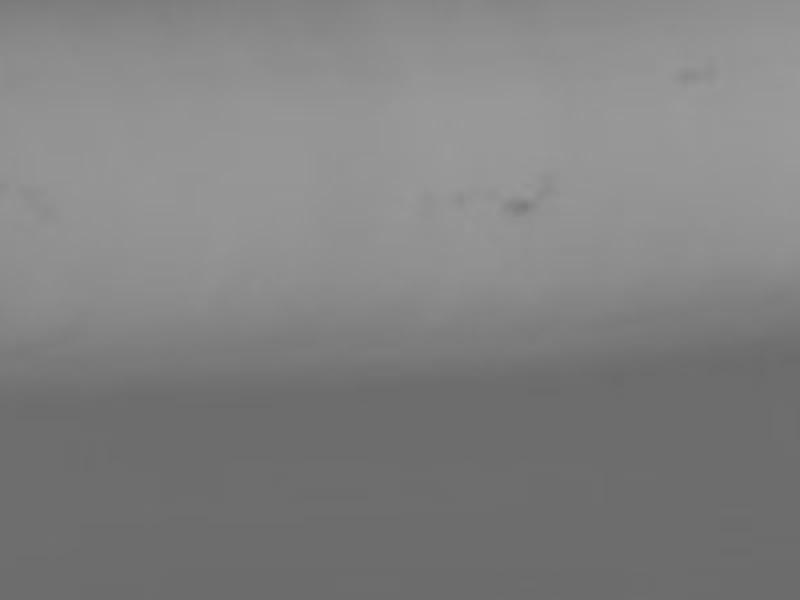defect: (677, 62, 716, 90), (503, 194, 531, 221)
